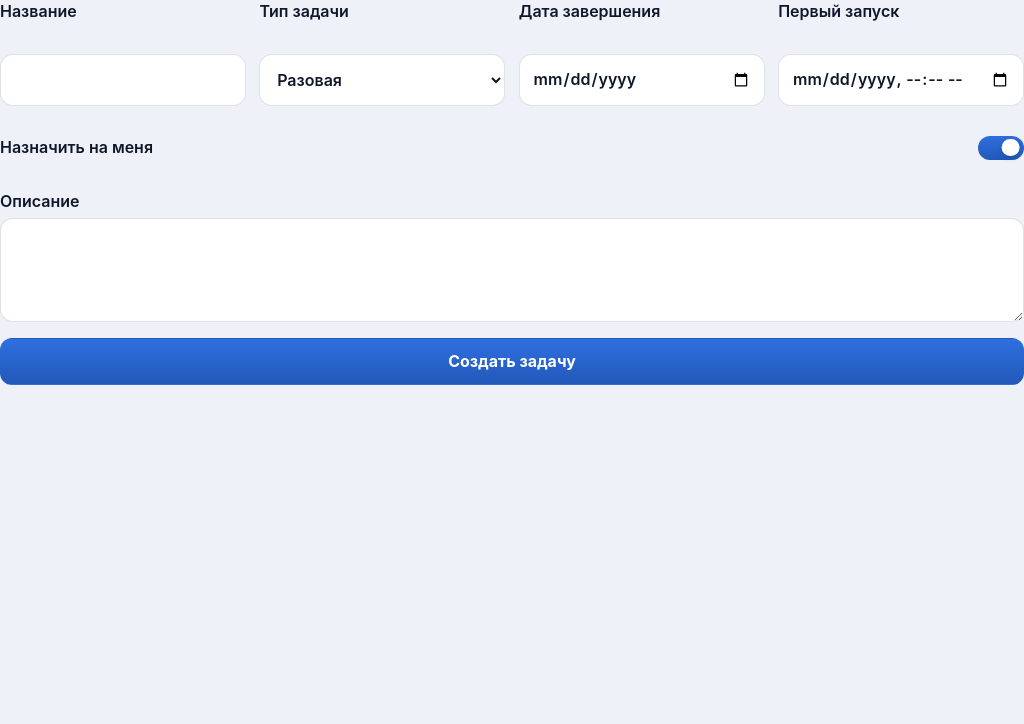
Test: TaskForm › blocks completion dates before the initial schedule
Type "Weekly review" into the field labelled "Название". click: (123,80)
box: [0,54,246,106]
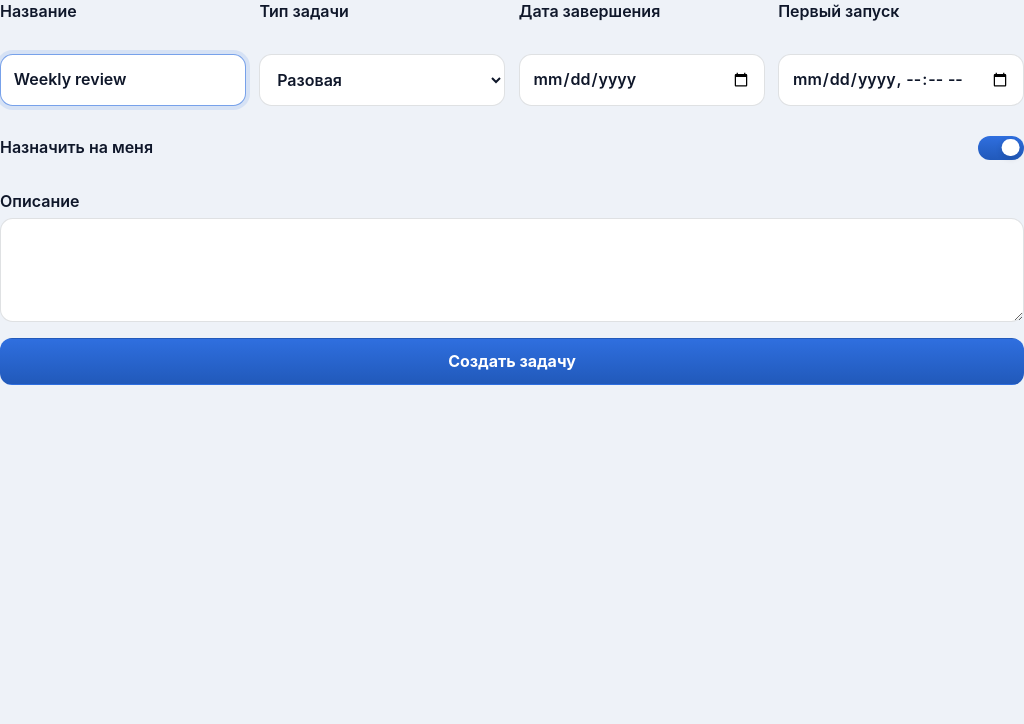
Select "Регулярная" in the dropdown labelled "Тип задачи". click: (382,80)
box: [259,54,505,106]
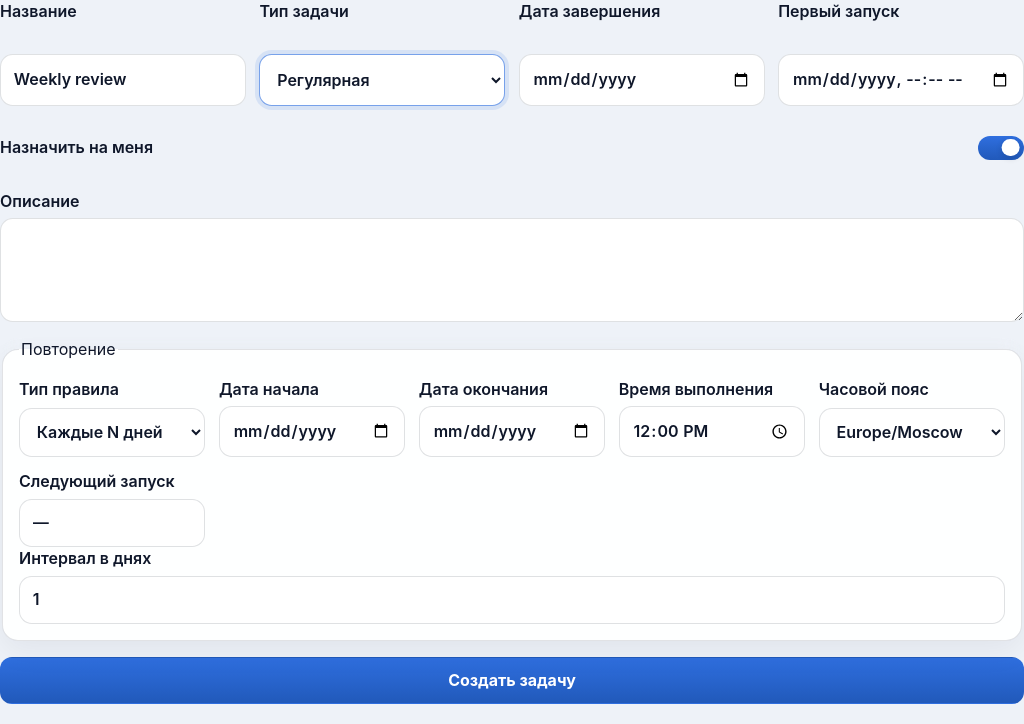
Type "2026-05-15" into the date field labelled "Дата завершения". click: (642,80)
box: [519,54,765,106]
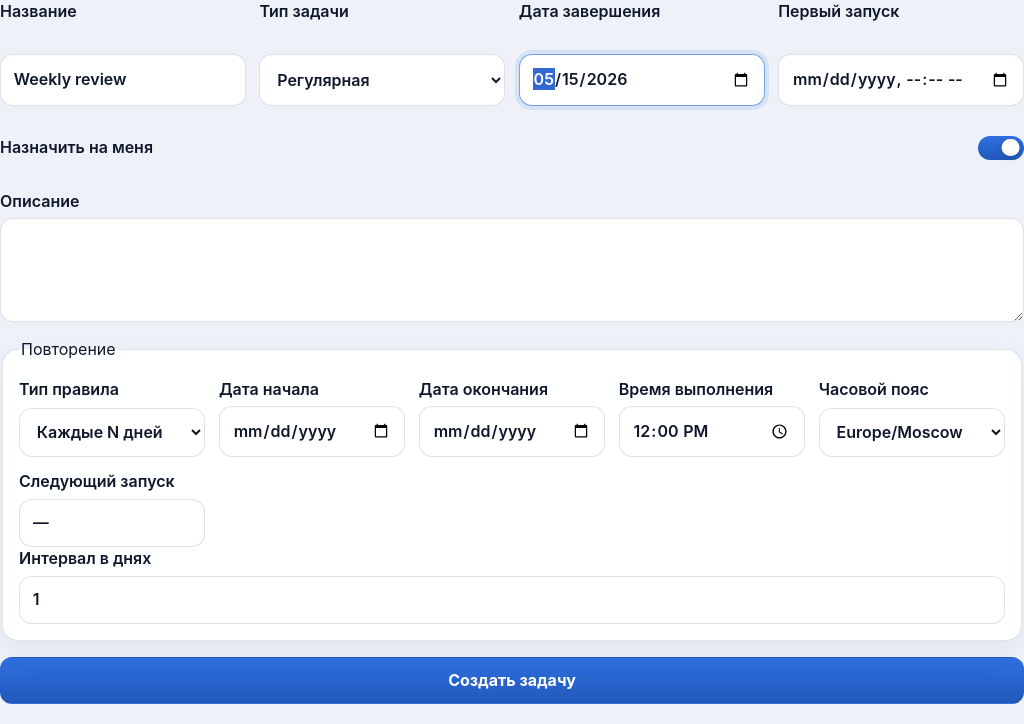
Type "2026-05-16T09:30" into the field labelled "Первый запуск". click: (901,80)
box: [778,54,1023,106]
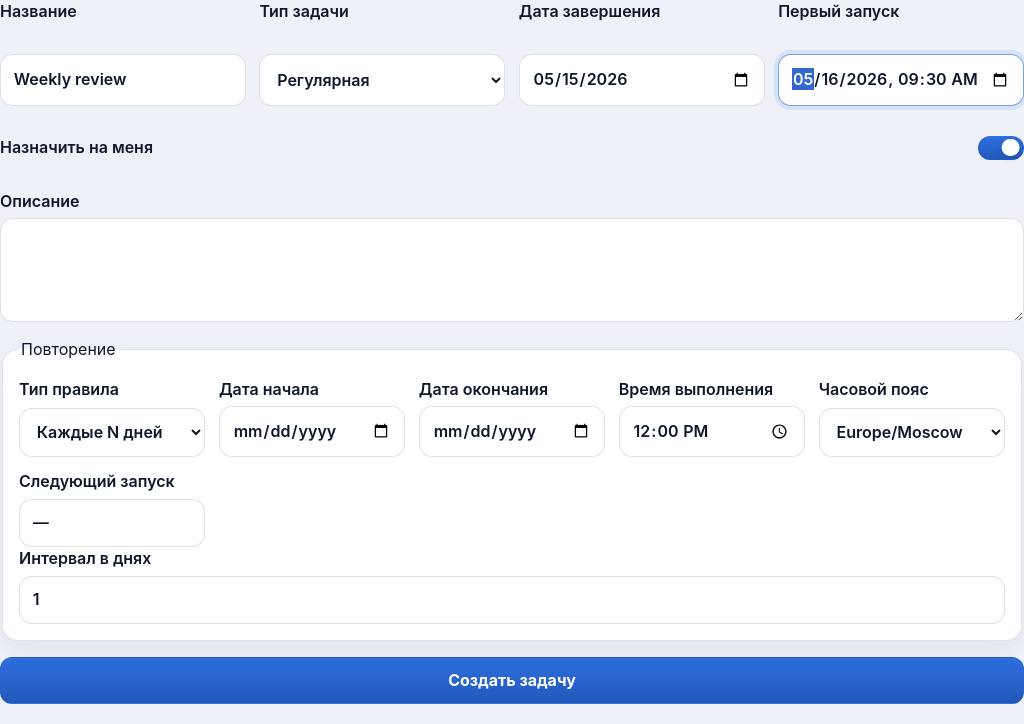
Click the button "Создать задачу". click: (512,681)
box: [0,657,1023,704]
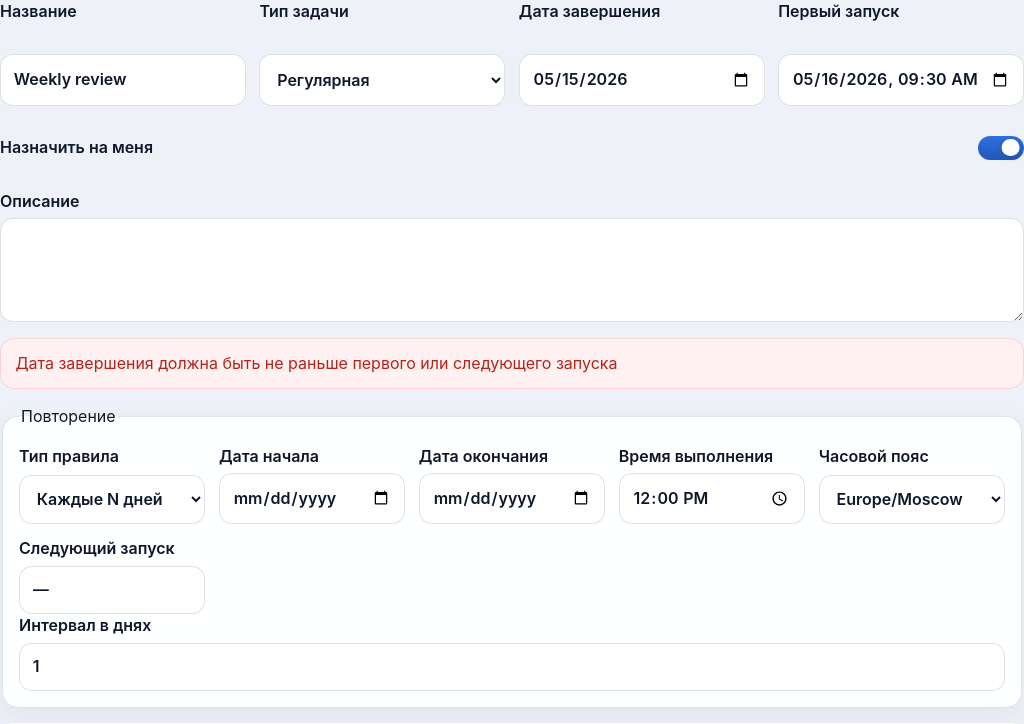
Expected: the text "Дата завершения должна быть не раньше первого или следующего запуска" is shown, [0,338,1023,389]
